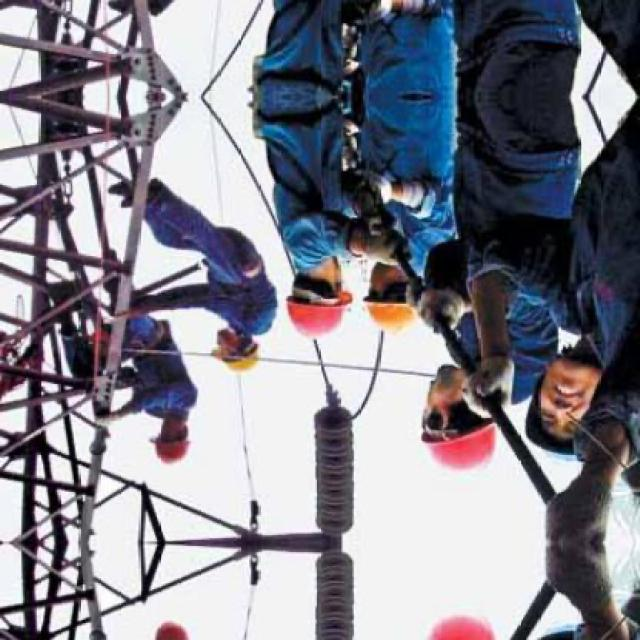con casco: (416, 335, 527, 483), (260, 218, 370, 348), (356, 248, 426, 347), (150, 406, 213, 481), (205, 341, 259, 392)
